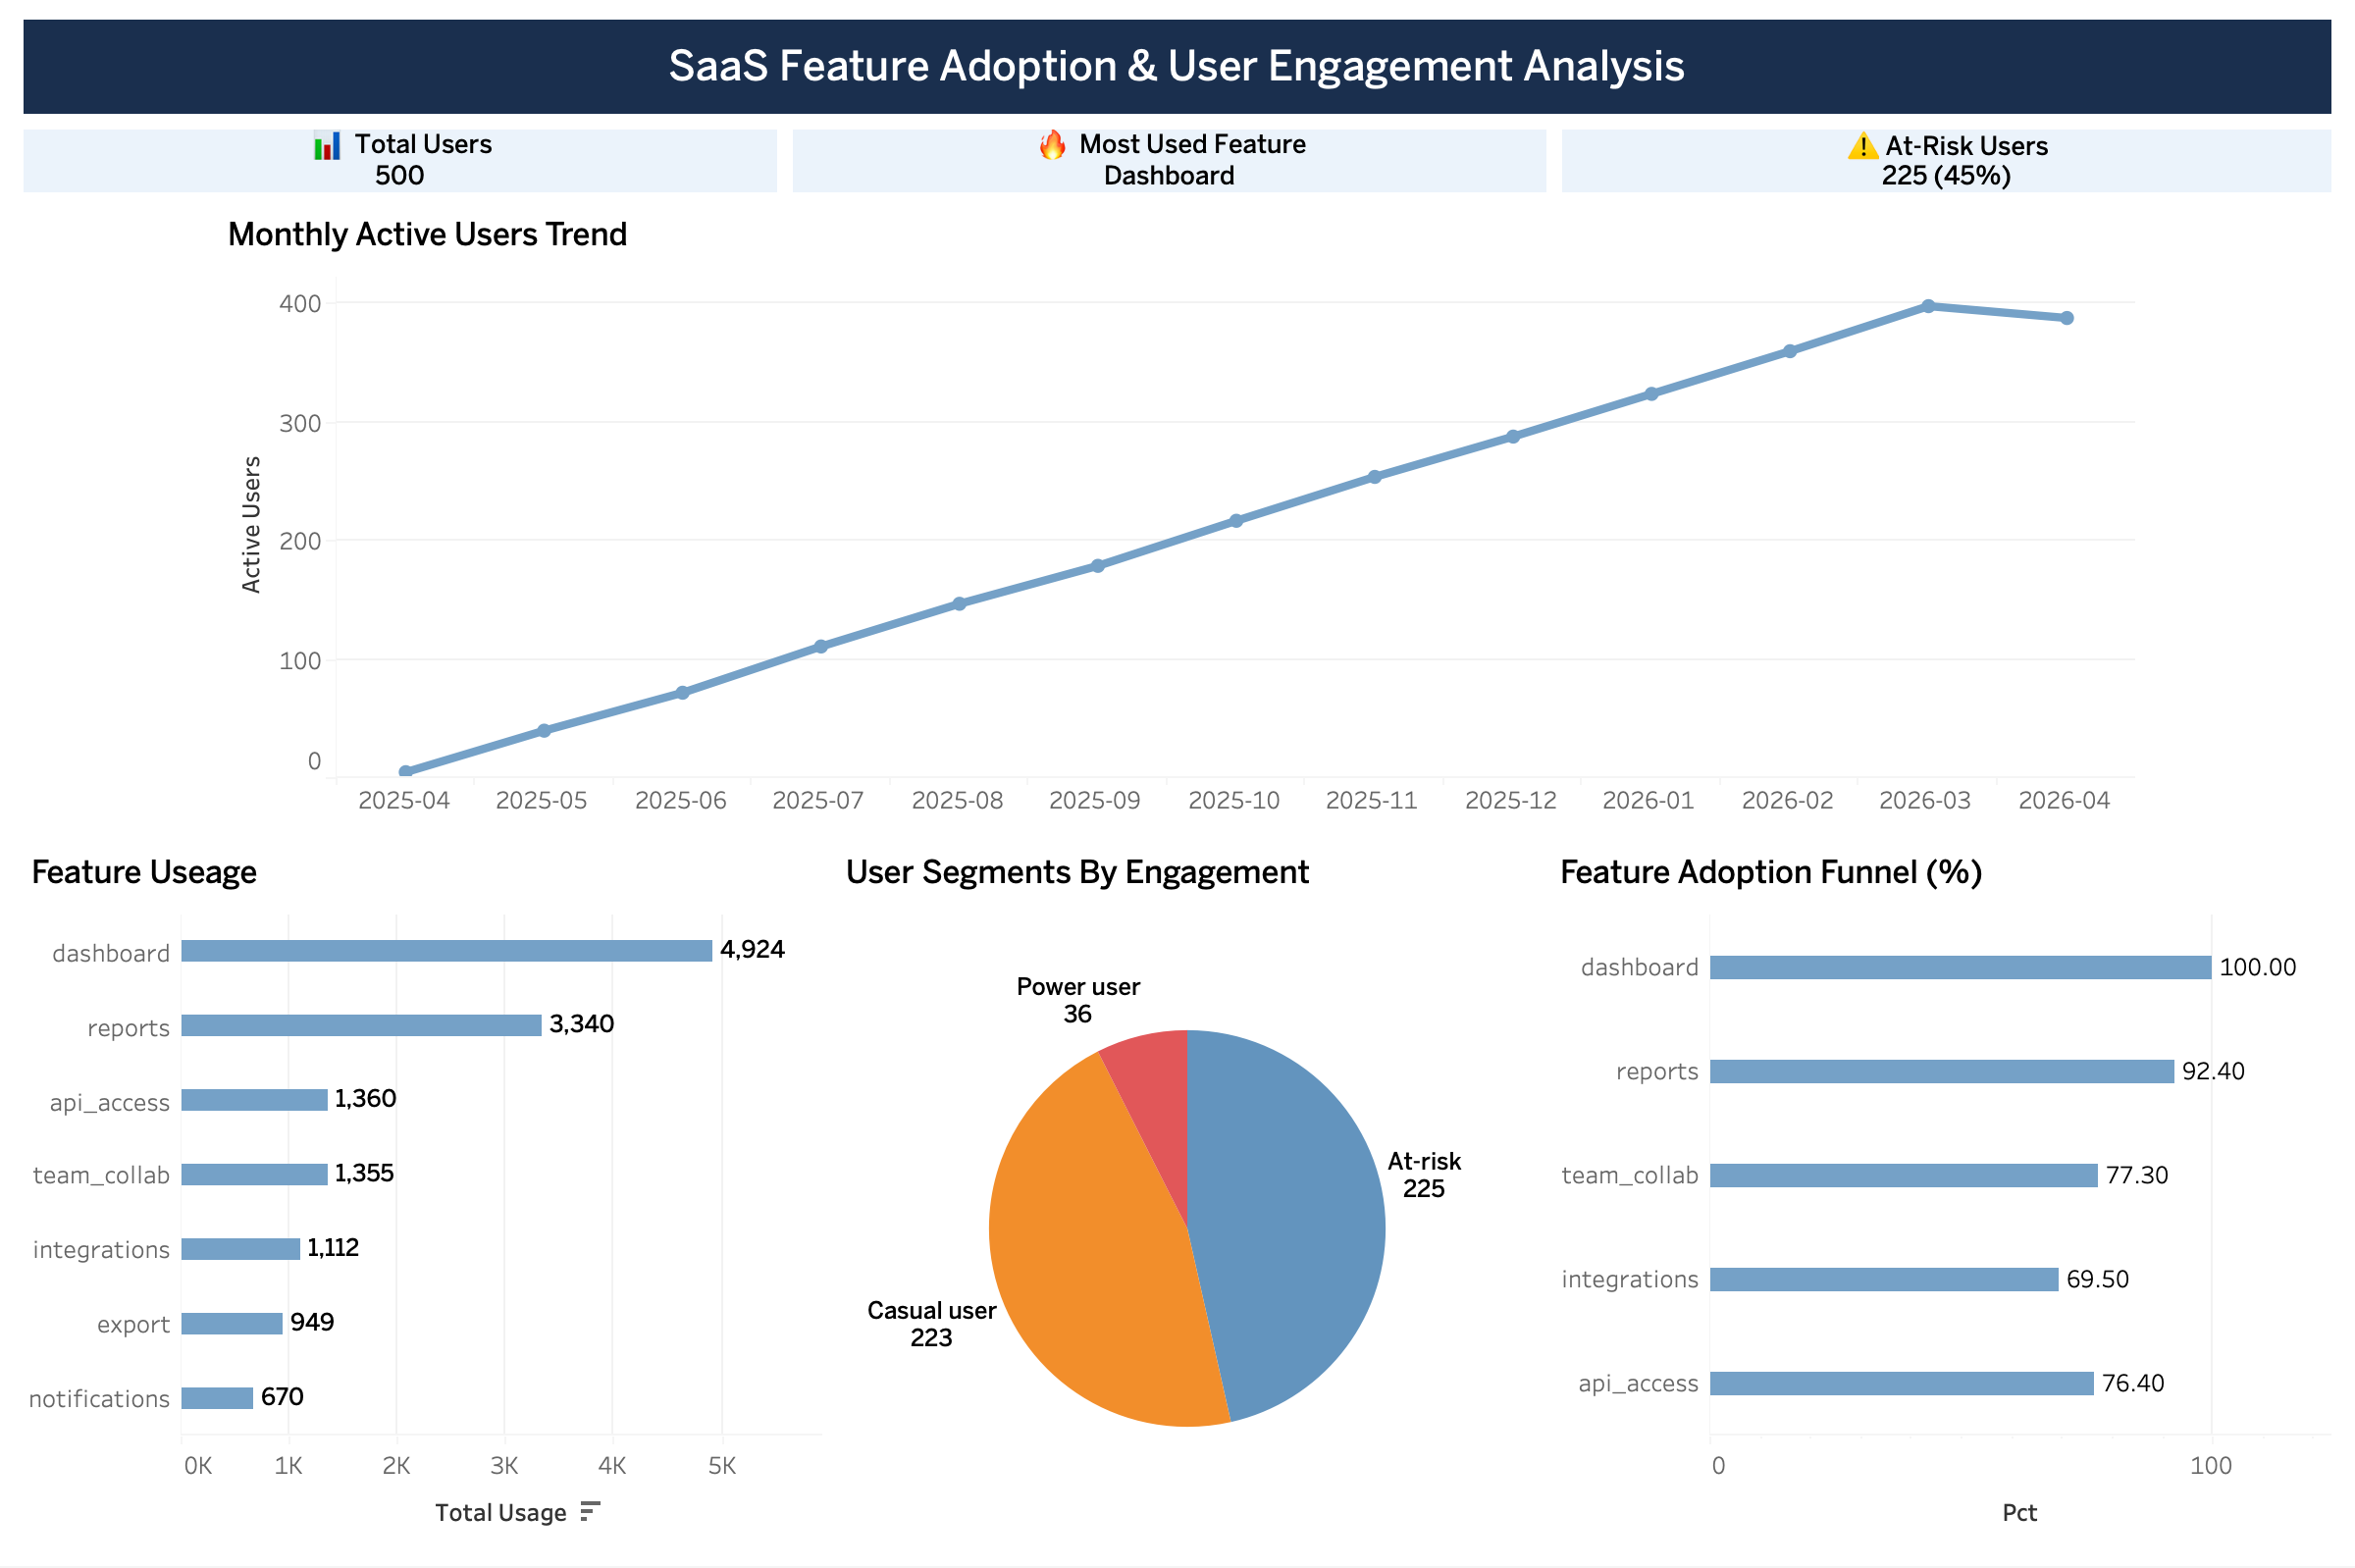

What the dashboard file says about the page in this screenshot:
{"tool":"tableau","page":{"name":"Dashboard 1","canvas":[1200,800],"ordinal":0},"visuals":[{"type":"text","box":[8,8,1184,56]},{"type":"text","box":[8,64,392,40]},{"type":"text","box":[400,64,392,40]},{"type":"text","box":[792,64,400,40]},{"type":"worksheet","title":"MAU","mark":"Line","rows":["active_users"],"cols":["month"],"box":[8,104,1184,319]},{"type":"worksheet","title":"Feature Useage","mark":"Bar","rows":["feature"],"cols":["total_usage"],"box":[8,423,415,369]},{"type":"worksheet","title":"User Segments","mark":"Pie","box":[423,423,364,369]},{"type":"worksheet","title":"Feature Adoption","mark":"Bar","rows":["feature"],"cols":["pct"],"box":[787,423,405,369]}]}

Visuals, with their boxes in screenshot pixels (x1, y1, x2, y2), scaled from the page's 1200x800 canvas onto the 2355x1568 screenshot:
text: bbox=[16, 16, 2339, 126]
text: bbox=[16, 126, 785, 204]
text: bbox=[785, 126, 1554, 204]
text: bbox=[1554, 126, 2339, 204]
"MAU" worksheet (Line marks): bbox=[16, 204, 2339, 829]
"Feature Useage" worksheet (Bar marks): bbox=[16, 829, 830, 1552]
"User Segments" worksheet (Pie marks): bbox=[830, 829, 1544, 1552]
"Feature Adoption" worksheet (Bar marks): bbox=[1544, 829, 2339, 1552]
